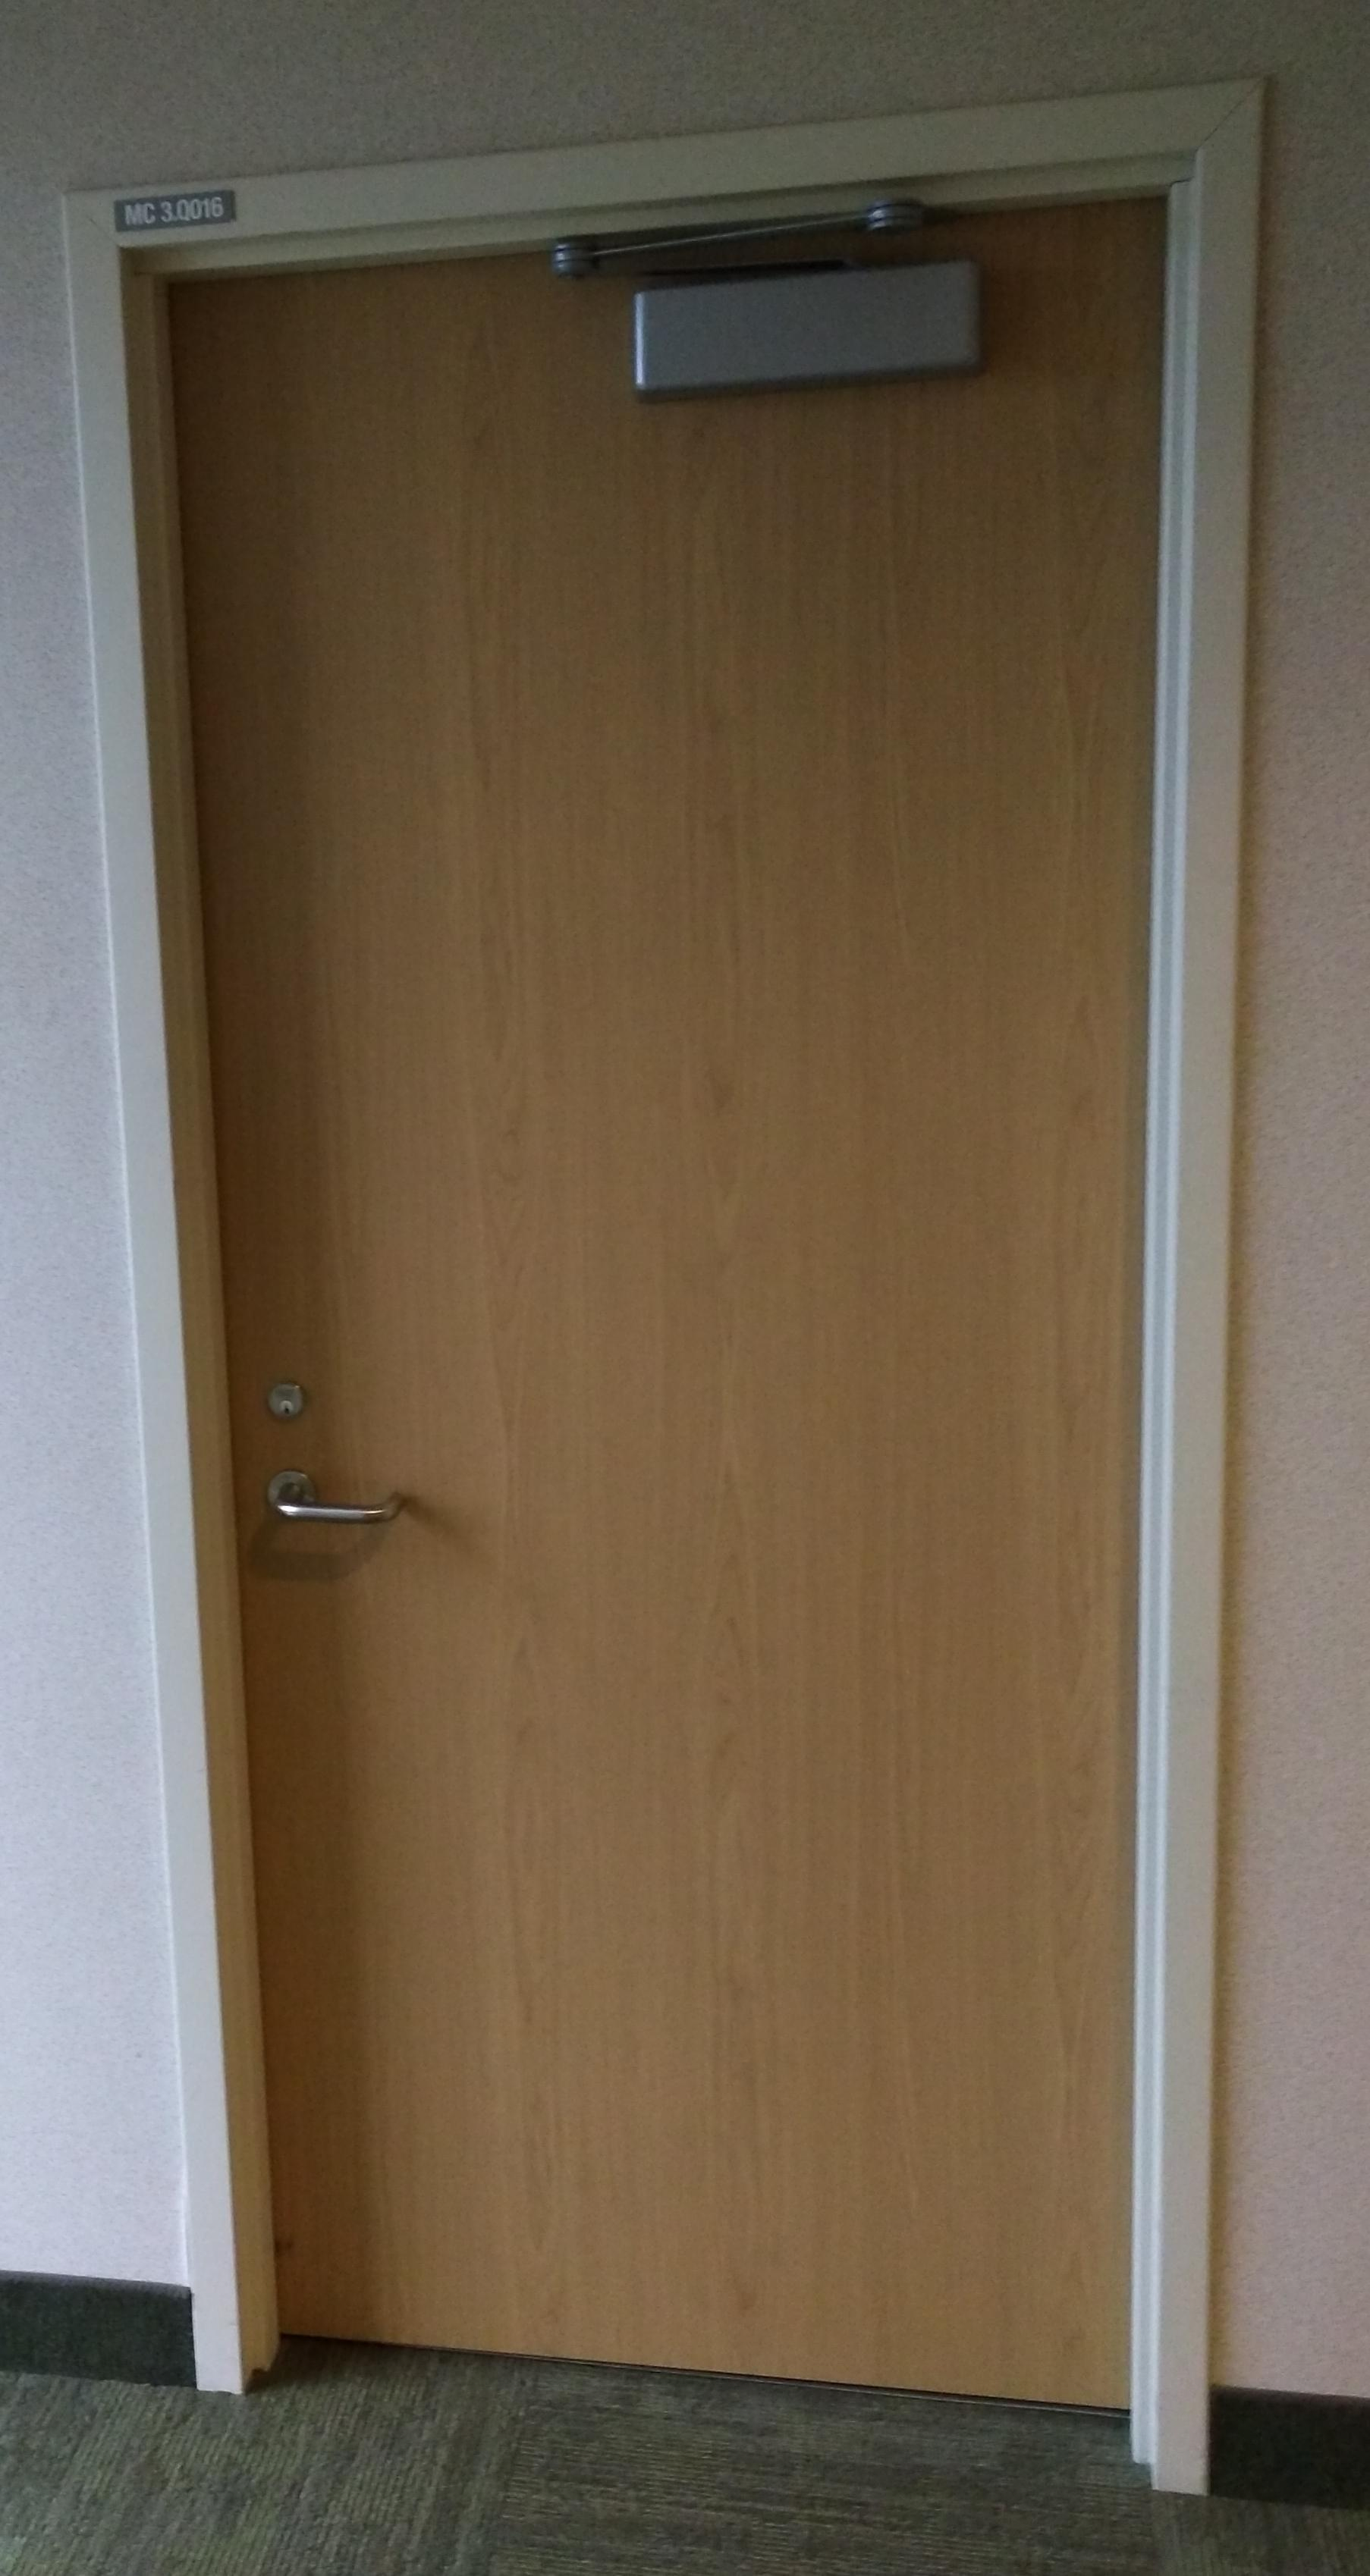door: (68, 77, 1264, 2496)
